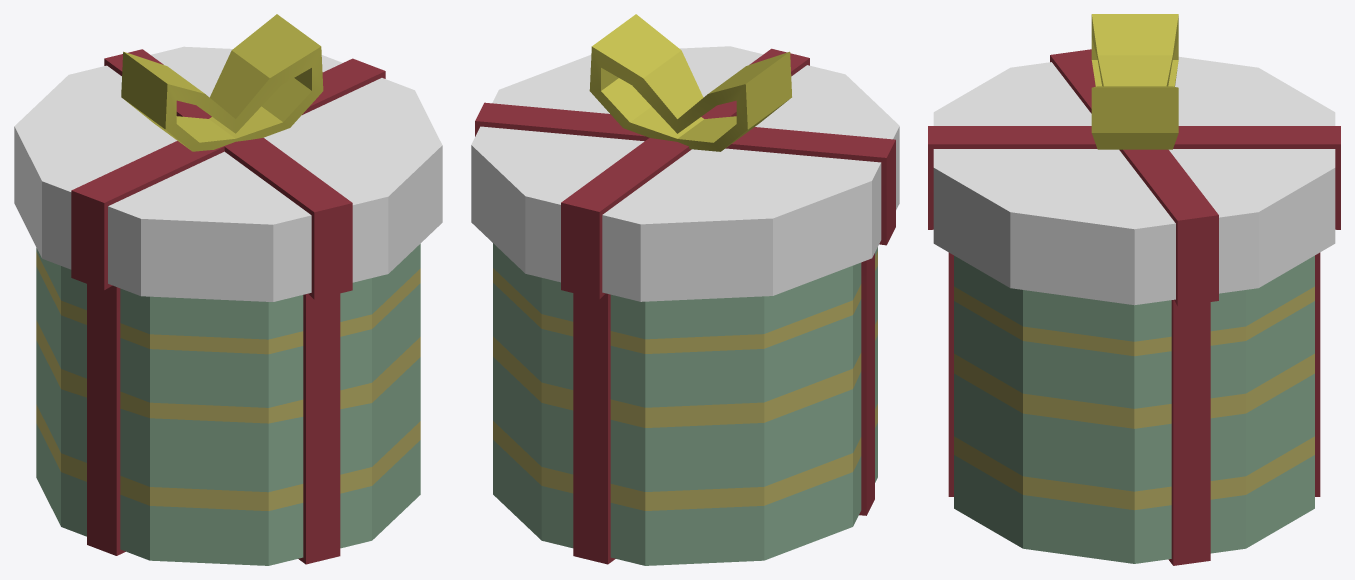
The model's file is Caja_Navidena_5.fbx.
3 renders of one model, left to right at view 1: azimuth 30°, elevation 25°; view 2: azimuth 150°, elevation 25°; view 3: azimuth 270°, elevation 25°, orthographic.
Visible parts, largest first — view 1: Caja_circular6, Moñito_Circular; view 2: Caja_circular6, Moñito_Circular; view 3: Caja_circular6, Moñito_Circular.
Part boxes in pixels (<box>): Caja_circular6: <box>14,46,442,565</box>; Moñito_Circular: <box>121,14,323,151</box>; Caja_circular6: <box>471,46,899,565</box>; Moñito_Circular: <box>589,14,791,151</box>; Caja_circular6: <box>928,49,1340,565</box>; Moñito_Circular: <box>1091,14,1178,149</box>.
Size of the model in its own units: 1.18 by 1.34 by 1.15.
